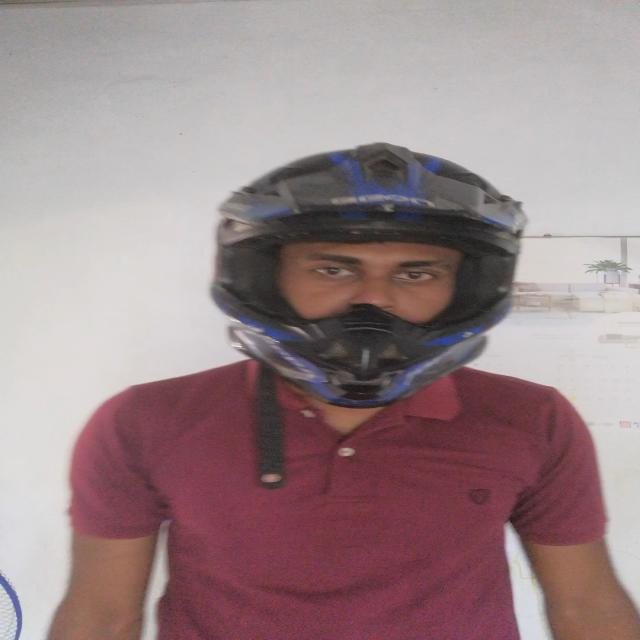Helmet_Wearer: (183, 135, 538, 419)
